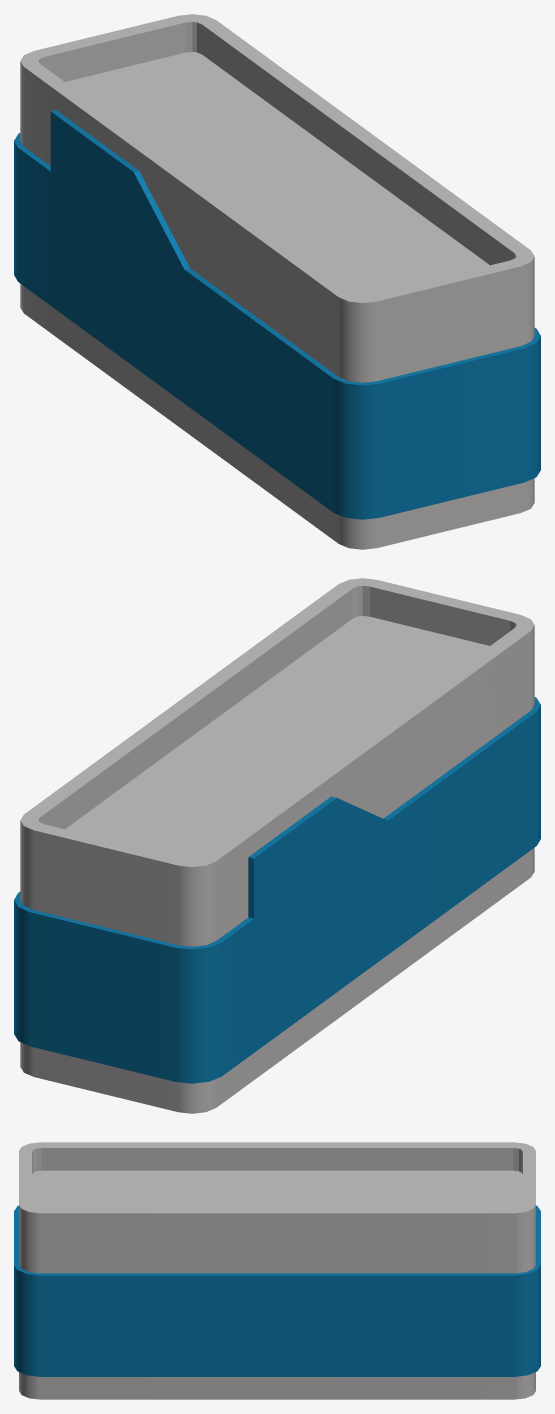
The model's file is LabPlantBoxB.fbx.
3 views of the same model, one above another, from view 1: azimuth 30°, elevation 25°; view 2: azimuth 150°, elevation 25°; view 3: azimuth 270°, elevation 25° (orthographic). The views are drawn at different scales.
Parts seen in each view (by area): view 1: LabPlantBoxB; view 2: LabPlantBoxB; view 3: LabPlantBoxB.
Boxes of the visible parts, x1=… form: LabPlantBoxB: x1=14, y1=14, x2=540, y2=549; LabPlantBoxB: x1=14, y1=578, x2=540, y2=1113; LabPlantBoxB: x1=14, y1=1142, x2=540, y2=1399.
Bounding box in the file's own units: 63.93 × 74.04 × 190.
